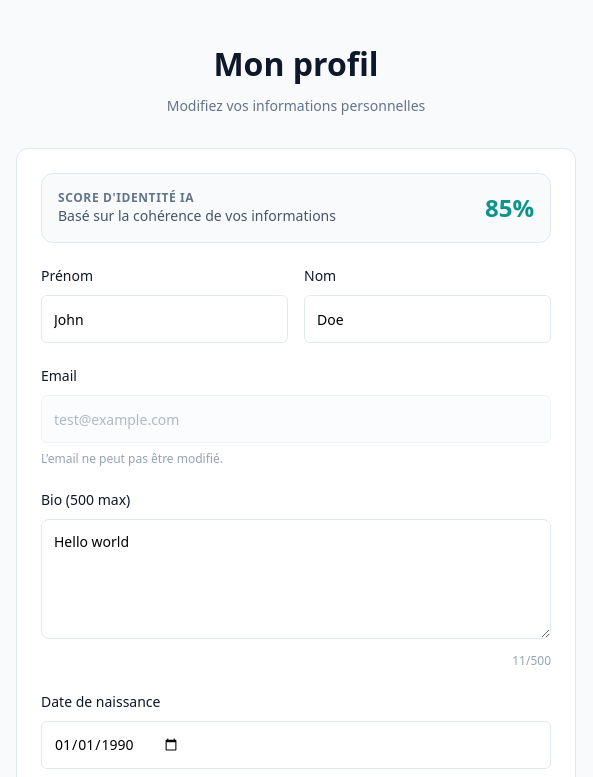
ProfilePage › handles successful profile update
Step 1. Replace the text in the field showing "John" below "Prénom" with "Jane" → [164, 319], box [41,295,288,343]
(page scrolled)
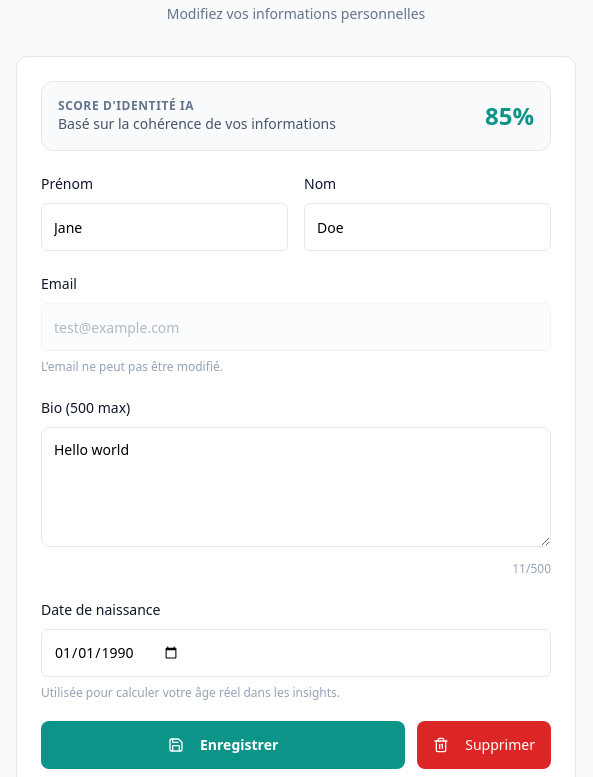
Step 2. Click the button "Enregistrer" → [223, 745], box [41,721,405,769]
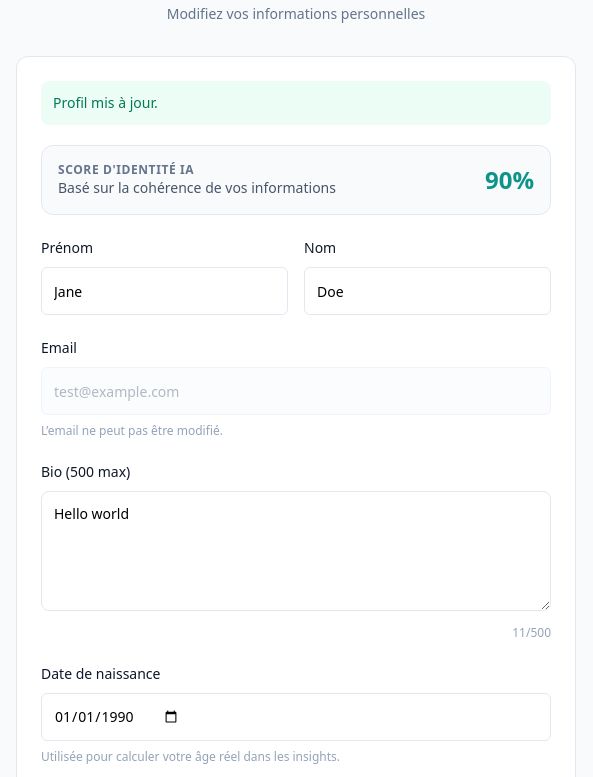
Expected: the text "Profil mis à jour." is shown, [41,81,551,125]
